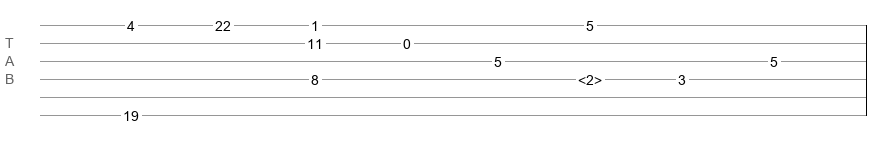0: (403, 36, 411, 46)
1: (311, 18, 319, 28)
11: (307, 36, 323, 46)
19: (123, 108, 139, 118)
22: (215, 18, 231, 28)
3: (678, 72, 686, 82)
4: (127, 18, 135, 28)
5: (494, 54, 502, 64), (586, 18, 594, 28), (770, 54, 778, 64)
8: (311, 72, 319, 82)
harmonic: (578, 72, 602, 82)
